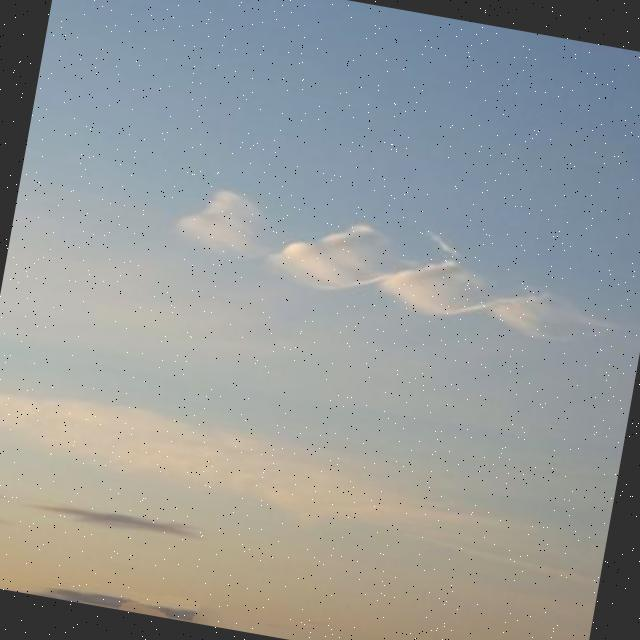Cc: (127, 158, 640, 391)
